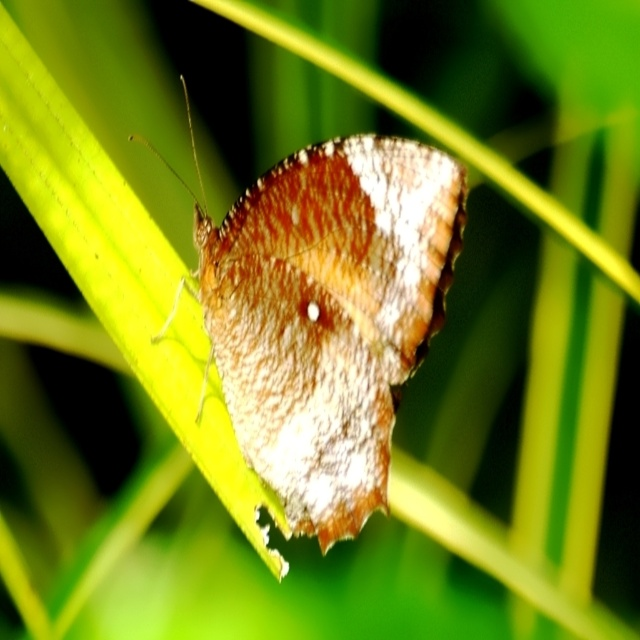Butterfly: (156, 99, 482, 585)
